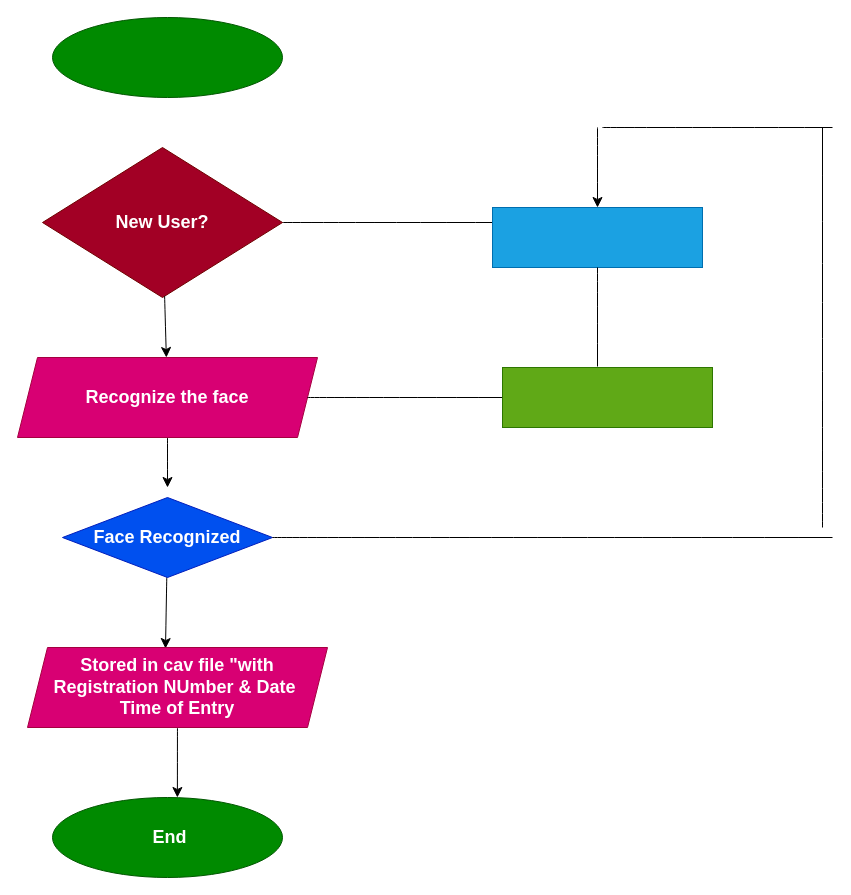
Some shapes in this 851 by 895 pixel diagram are drawn without their labels. The shapes that lost their labels are listed below. From the top down, each one's box as (x1, y1, x2, y2) in pixels, then its label:
(52, 16, 282, 98): Start
(492, 206, 702, 268): Give yuor phtograph
(502, 366, 712, 428): Store the face data in folder on your name
